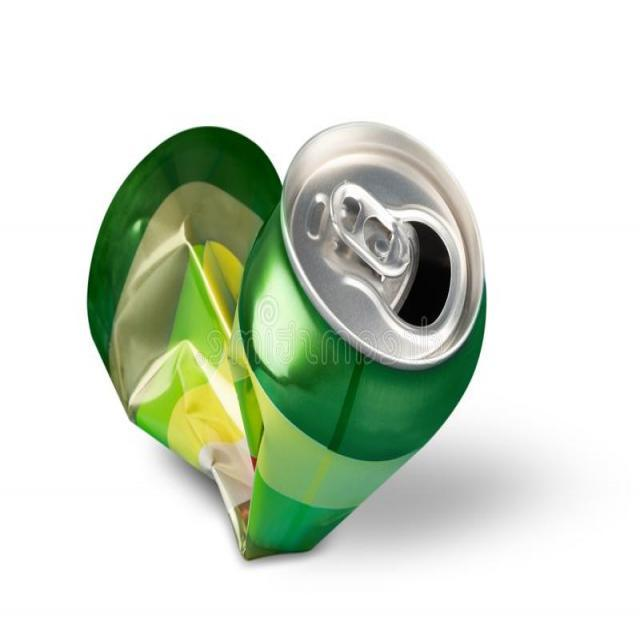can: (73, 68, 503, 584)
